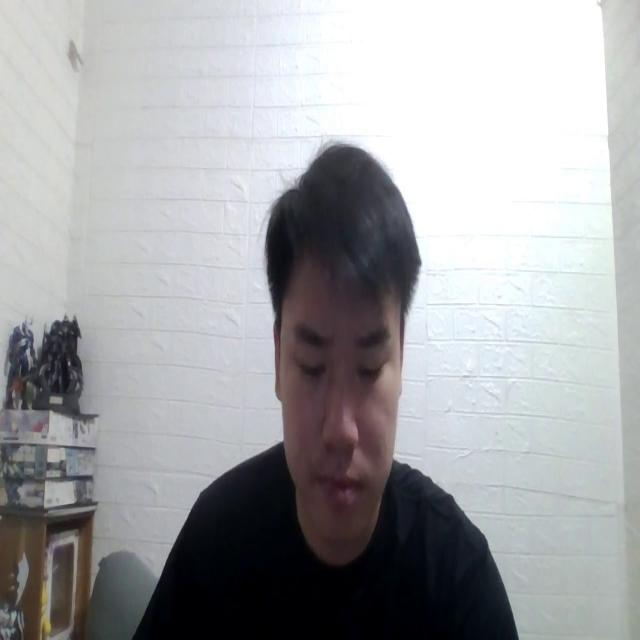student: (134, 130, 518, 640)
